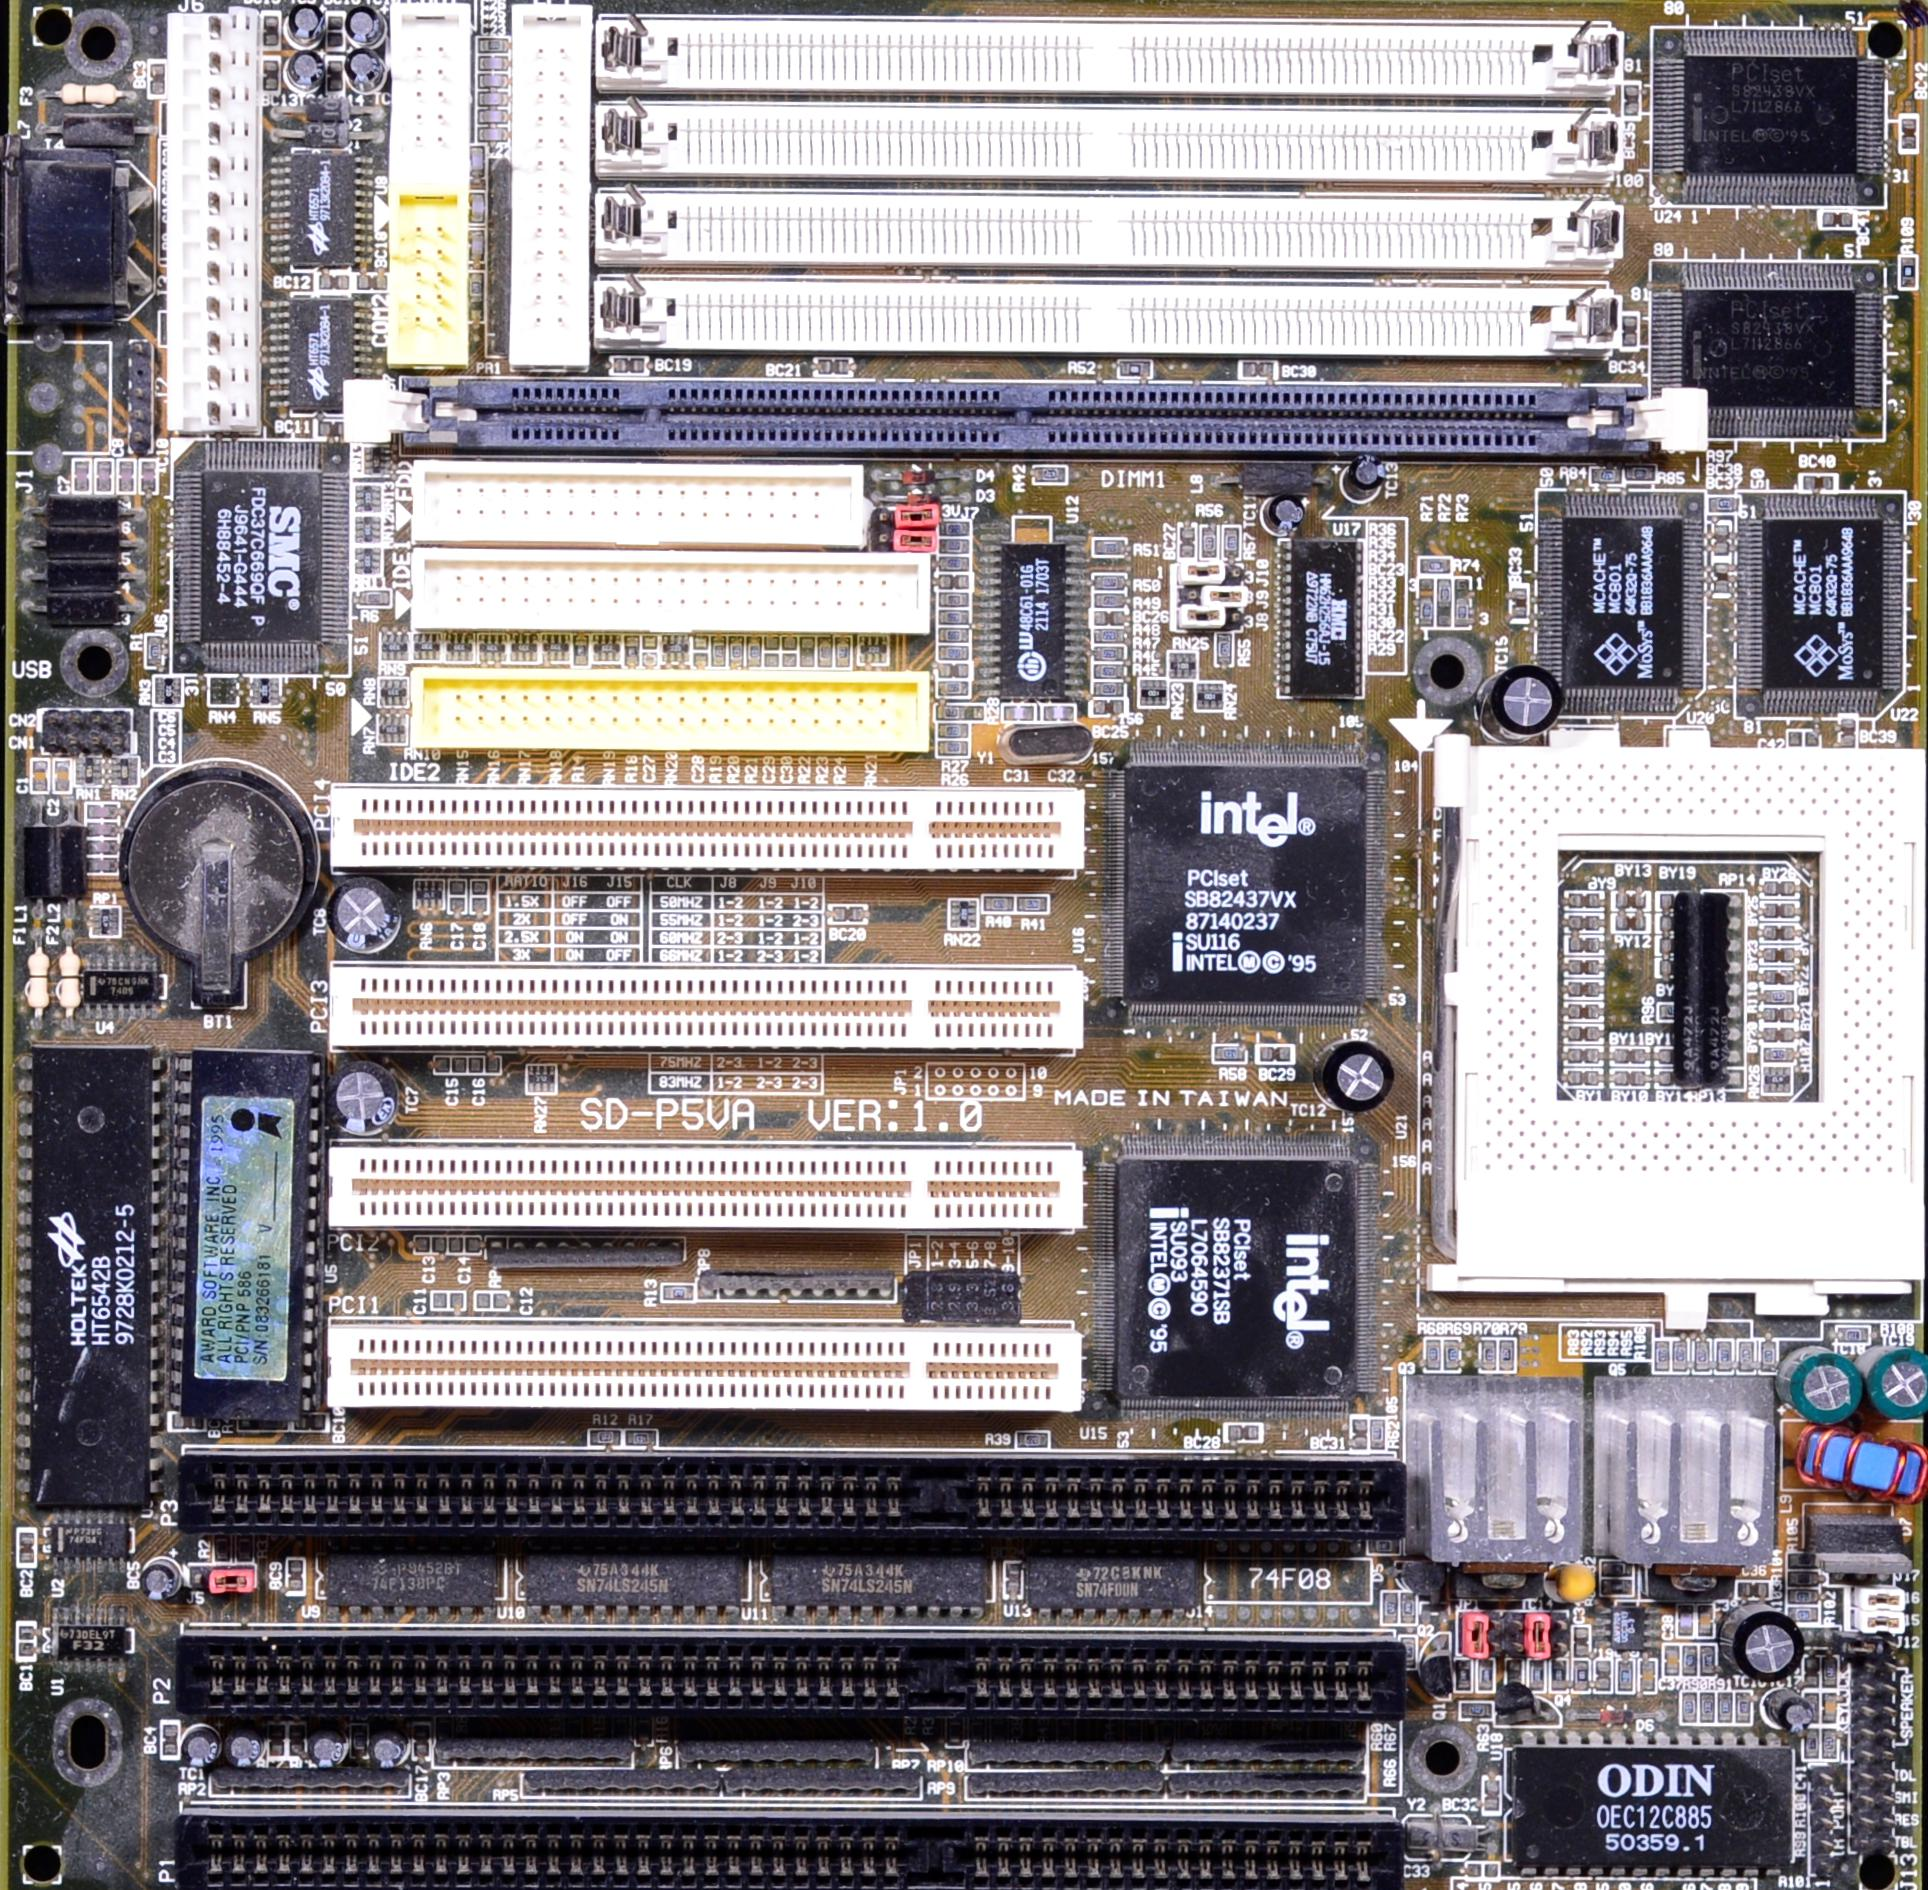Capacitor Jumper: (412, 1232, 486, 1257), (447, 877, 493, 916), (434, 1056, 505, 1077), (471, 1289, 514, 1314), (427, 1288, 467, 1314), (31, 756, 48, 794), (52, 758, 67, 793)
Connector: (177, 1442, 1407, 1559), (182, 1622, 1405, 1727), (348, 374, 1712, 455), (183, 1800, 1411, 1888), (590, 273, 1620, 360), (590, 189, 1622, 268), (595, 21, 1627, 100), (599, 100, 1625, 180), (329, 1141, 1082, 1236), (334, 781, 1083, 874), (331, 962, 1087, 1052), (325, 1319, 1082, 1409), (410, 663, 928, 751), (407, 549, 922, 633), (410, 455, 869, 547), (514, 12, 582, 360), (386, 190, 474, 369), (391, 10, 467, 187)
IC: (1106, 742, 1385, 1026), (1097, 1134, 1374, 1411), (22, 1044, 161, 1514), (175, 1052, 322, 1433), (1653, 26, 1886, 215), (1646, 258, 1886, 440), (1499, 1727, 1802, 1871), (178, 445, 346, 672), (1540, 493, 1698, 717), (1739, 490, 1897, 711), (978, 526, 1087, 699), (512, 1556, 765, 1617), (1282, 537, 1367, 699), (767, 1563, 1007, 1620), (1016, 1558, 1217, 1622), (268, 151, 376, 268), (263, 294, 370, 408), (315, 1559, 512, 1617), (45, 1513, 135, 1584), (81, 952, 168, 1016), (55, 1603, 133, 1670)
Resistor Jumper: (1092, 571, 1125, 696), (1180, 521, 1246, 559), (980, 893, 1049, 916), (936, 720, 973, 756), (410, 876, 443, 914), (590, 1430, 652, 1445), (1440, 1336, 1461, 1374), (1092, 537, 1130, 557), (1031, 464, 1066, 486), (147, 632, 166, 670), (1755, 1340, 1779, 1369), (658, 1282, 692, 1302), (1670, 1340, 1687, 1378), (1215, 632, 1232, 668), (1478, 1338, 1497, 1371), (1712, 1336, 1732, 1366), (1495, 1338, 1513, 1371), (1424, 1340, 1442, 1372), (1736, 1343, 1755, 1372), (357, 587, 386, 606), (1656, 1334, 1672, 1369), (1689, 1341, 1708, 1369)
